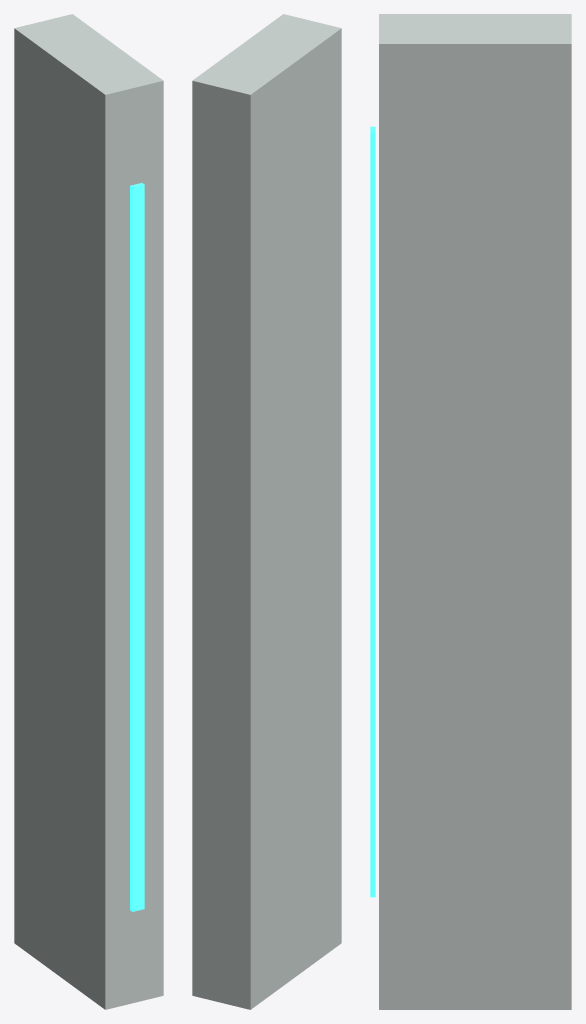
Rendered from Arch_Facade_Porcelain_Fin.glb.
3 renders of one model, left to right at view 1: azimuth 30°, elevation 25°; view 2: azimuth 150°, elevation 25°; view 3: azimuth 270°, elevation 25°, orthographic. The views are drawn at different scales.
Parts seen in each view (by area): view 1: Arch_Facade_Porcelain_Fin; view 2: Arch_Facade_Porcelain_Fin; view 3: Arch_Facade_Porcelain_Fin.
Boxes of the visible parts, left/top/right/bottom form: Arch_Facade_Porcelain_Fin: left=14, top=14, right=163, bottom=1009; Arch_Facade_Porcelain_Fin: left=192, top=14, right=341, bottom=1009; Arch_Facade_Porcelain_Fin: left=370, top=14, right=571, bottom=1009.
Bounding box in the file's own units: 0.24 × 3.6 × 0.679.
